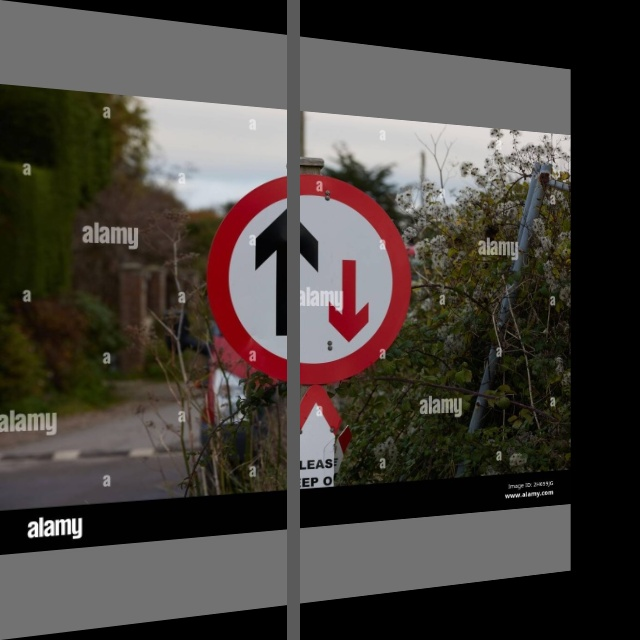Priority_for_Oncoming_Traffic: (207, 167, 411, 388)
